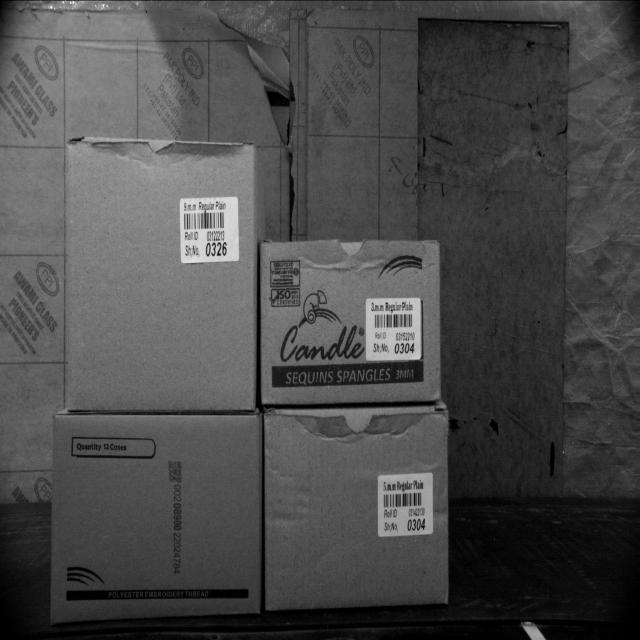cardboxes: (68, 139, 258, 412), (50, 414, 262, 615), (265, 412, 453, 614), (260, 240, 442, 408)
